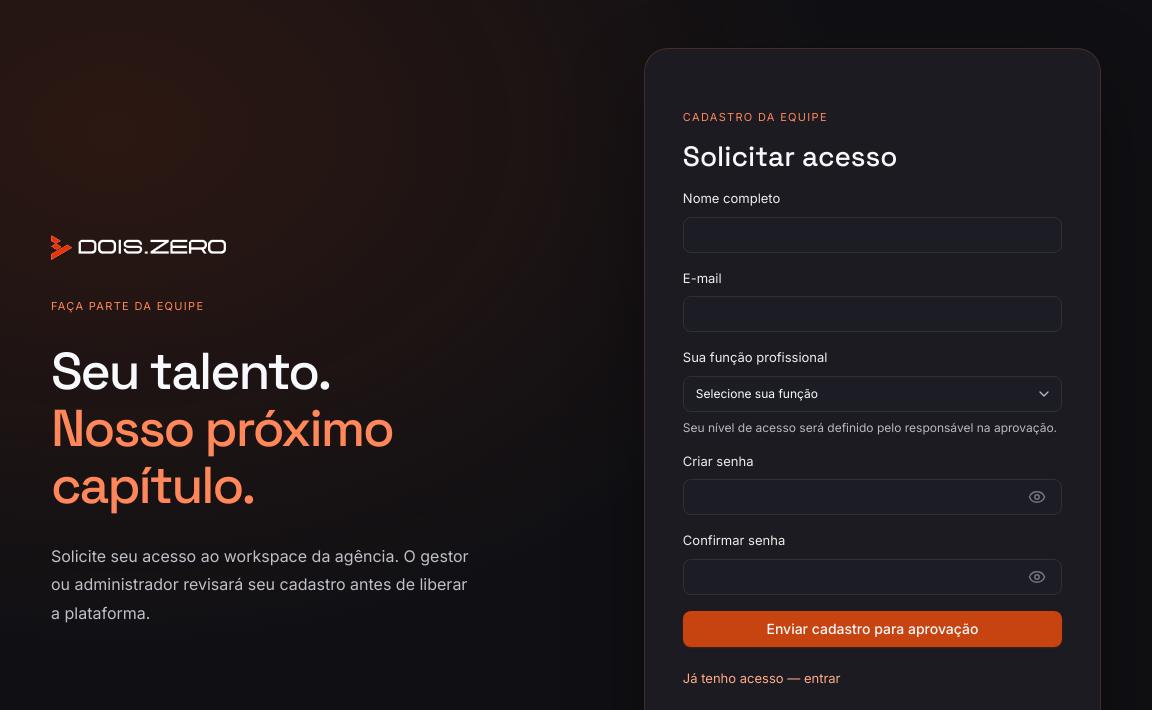
Team registration › does not claim success when the server rejects the registration
Type "Profissional Teste" into the field labelled "Nome completo".
click(872, 235); type("Profissional Teste")  # box [683,217,1062,253]
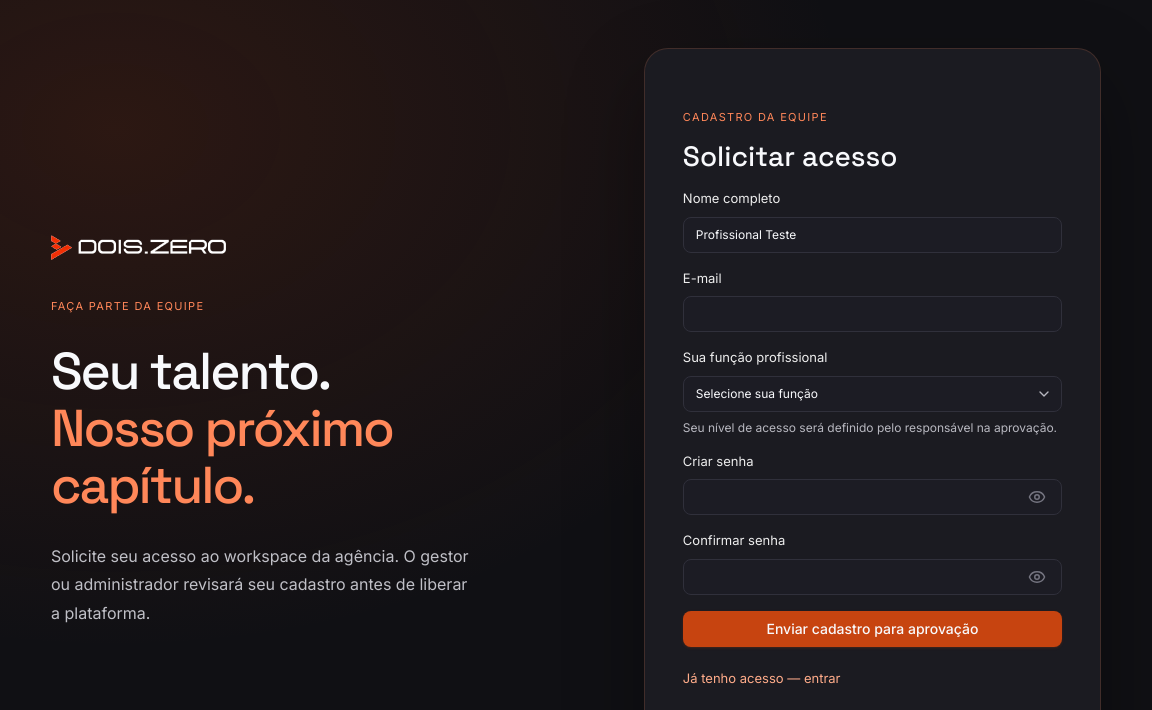
Type "test@example.com" into the field labelled "E-mail".
click(872, 314); type("test@example.com")  # box [683,296,1062,332]
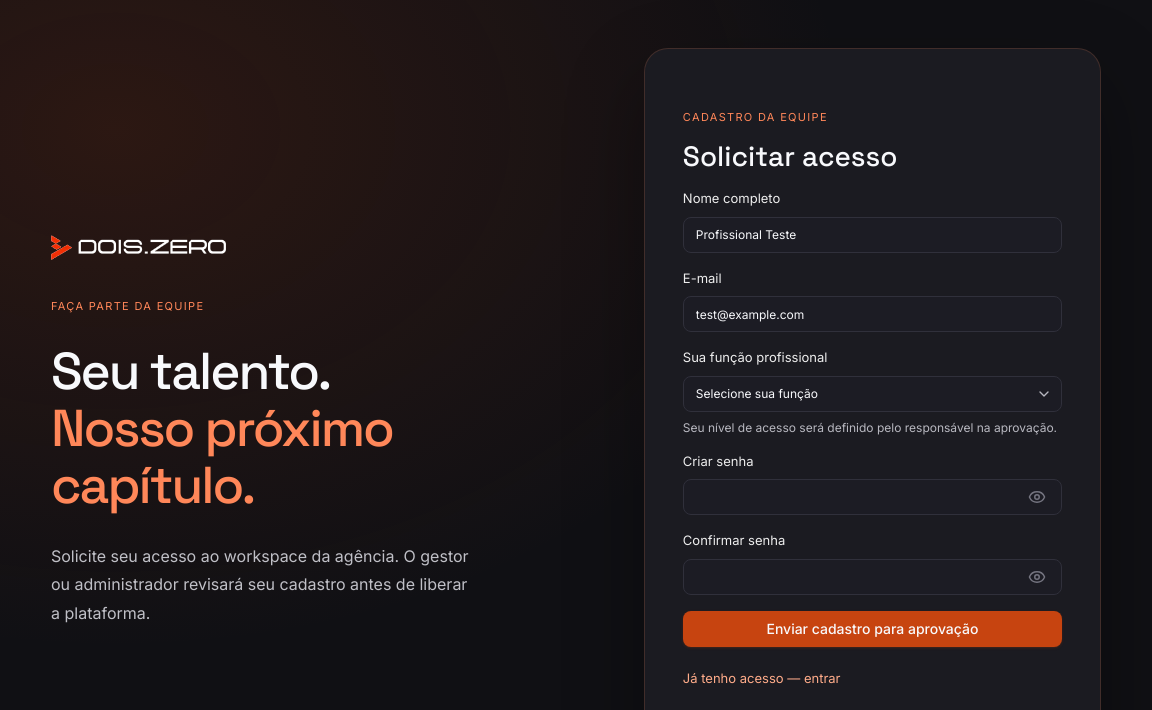
Select "Designer" in the dropdown labelled "Sua função profissional" at x=872, y=394, box [683,376,1062,412]
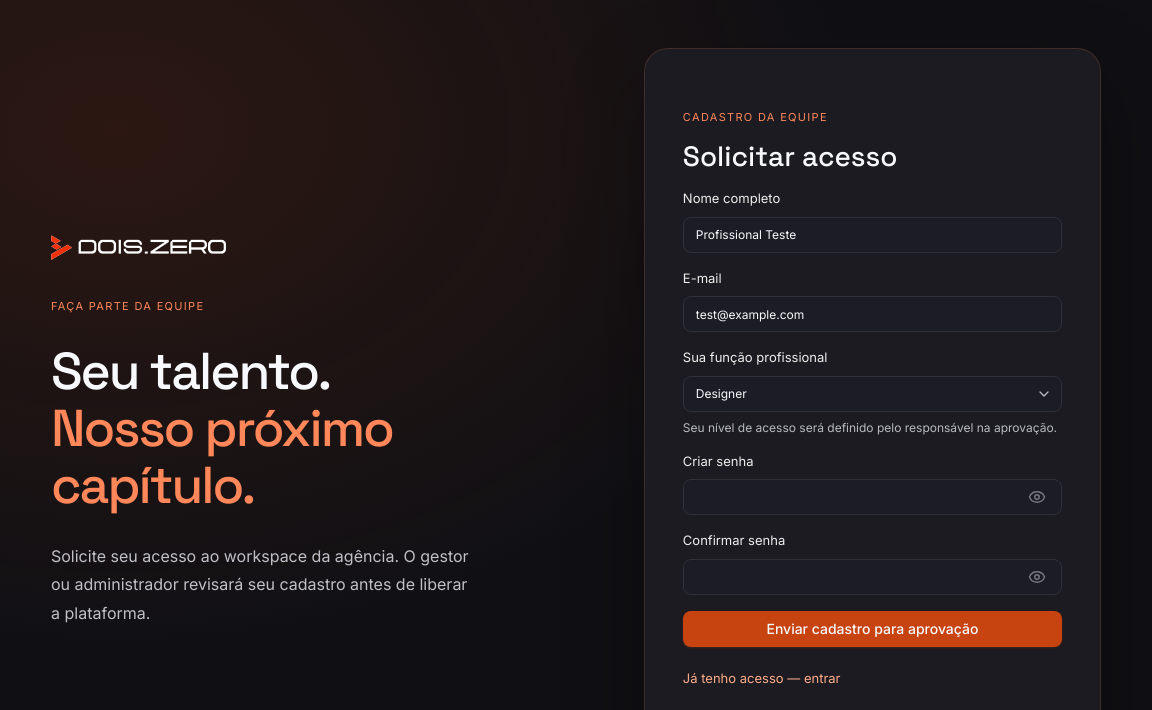
Type "test-password" into the password field labelled "Criar senha".
click(872, 497); type("test-password")  # box [683,479,1062,515]
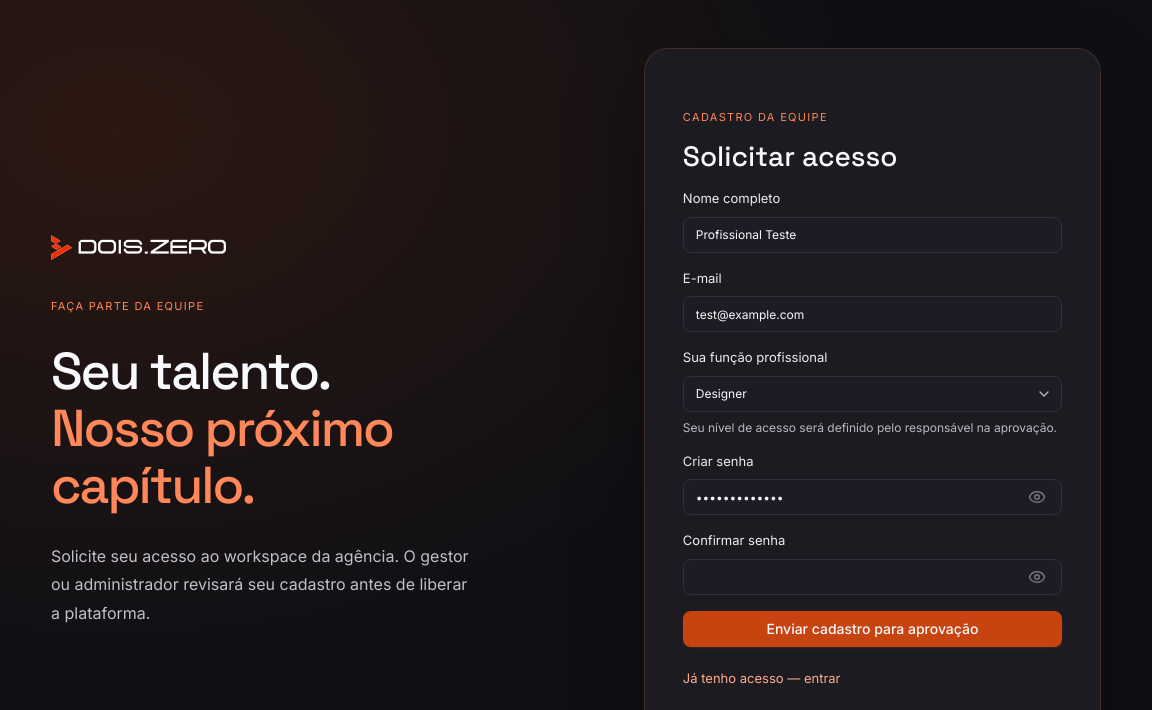
Type "test-password" into the password field labelled "Confirmar senha".
click(872, 577); type("test-password")  # box [683,559,1062,595]
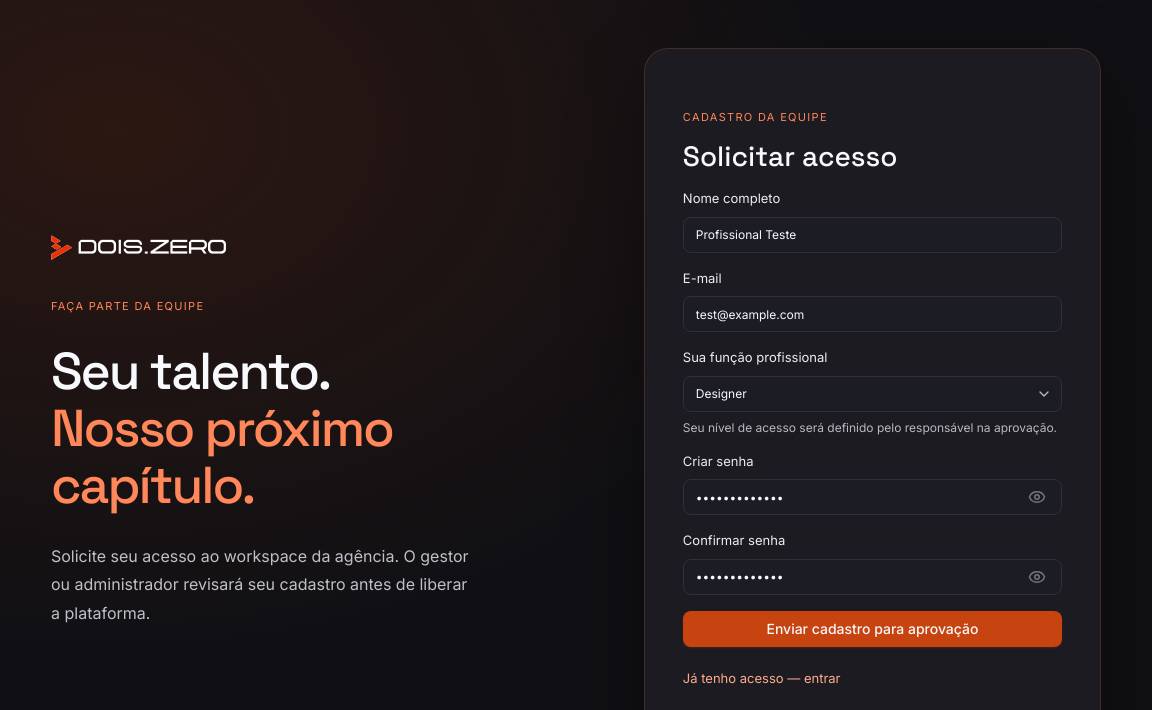
Click the button "Enviar cadastro para aprovação".
click(872, 629)  # box [683,611,1062,647]
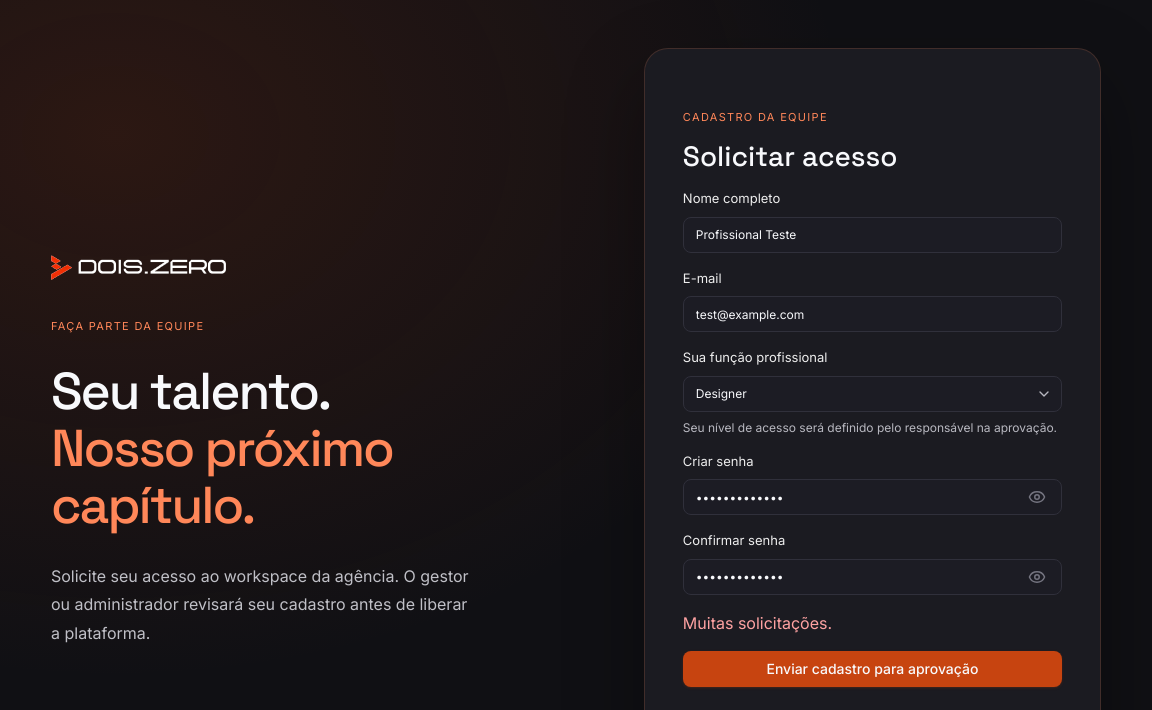
Check: the text "Muitas solicitações." is shown, box [683,613,832,633]
